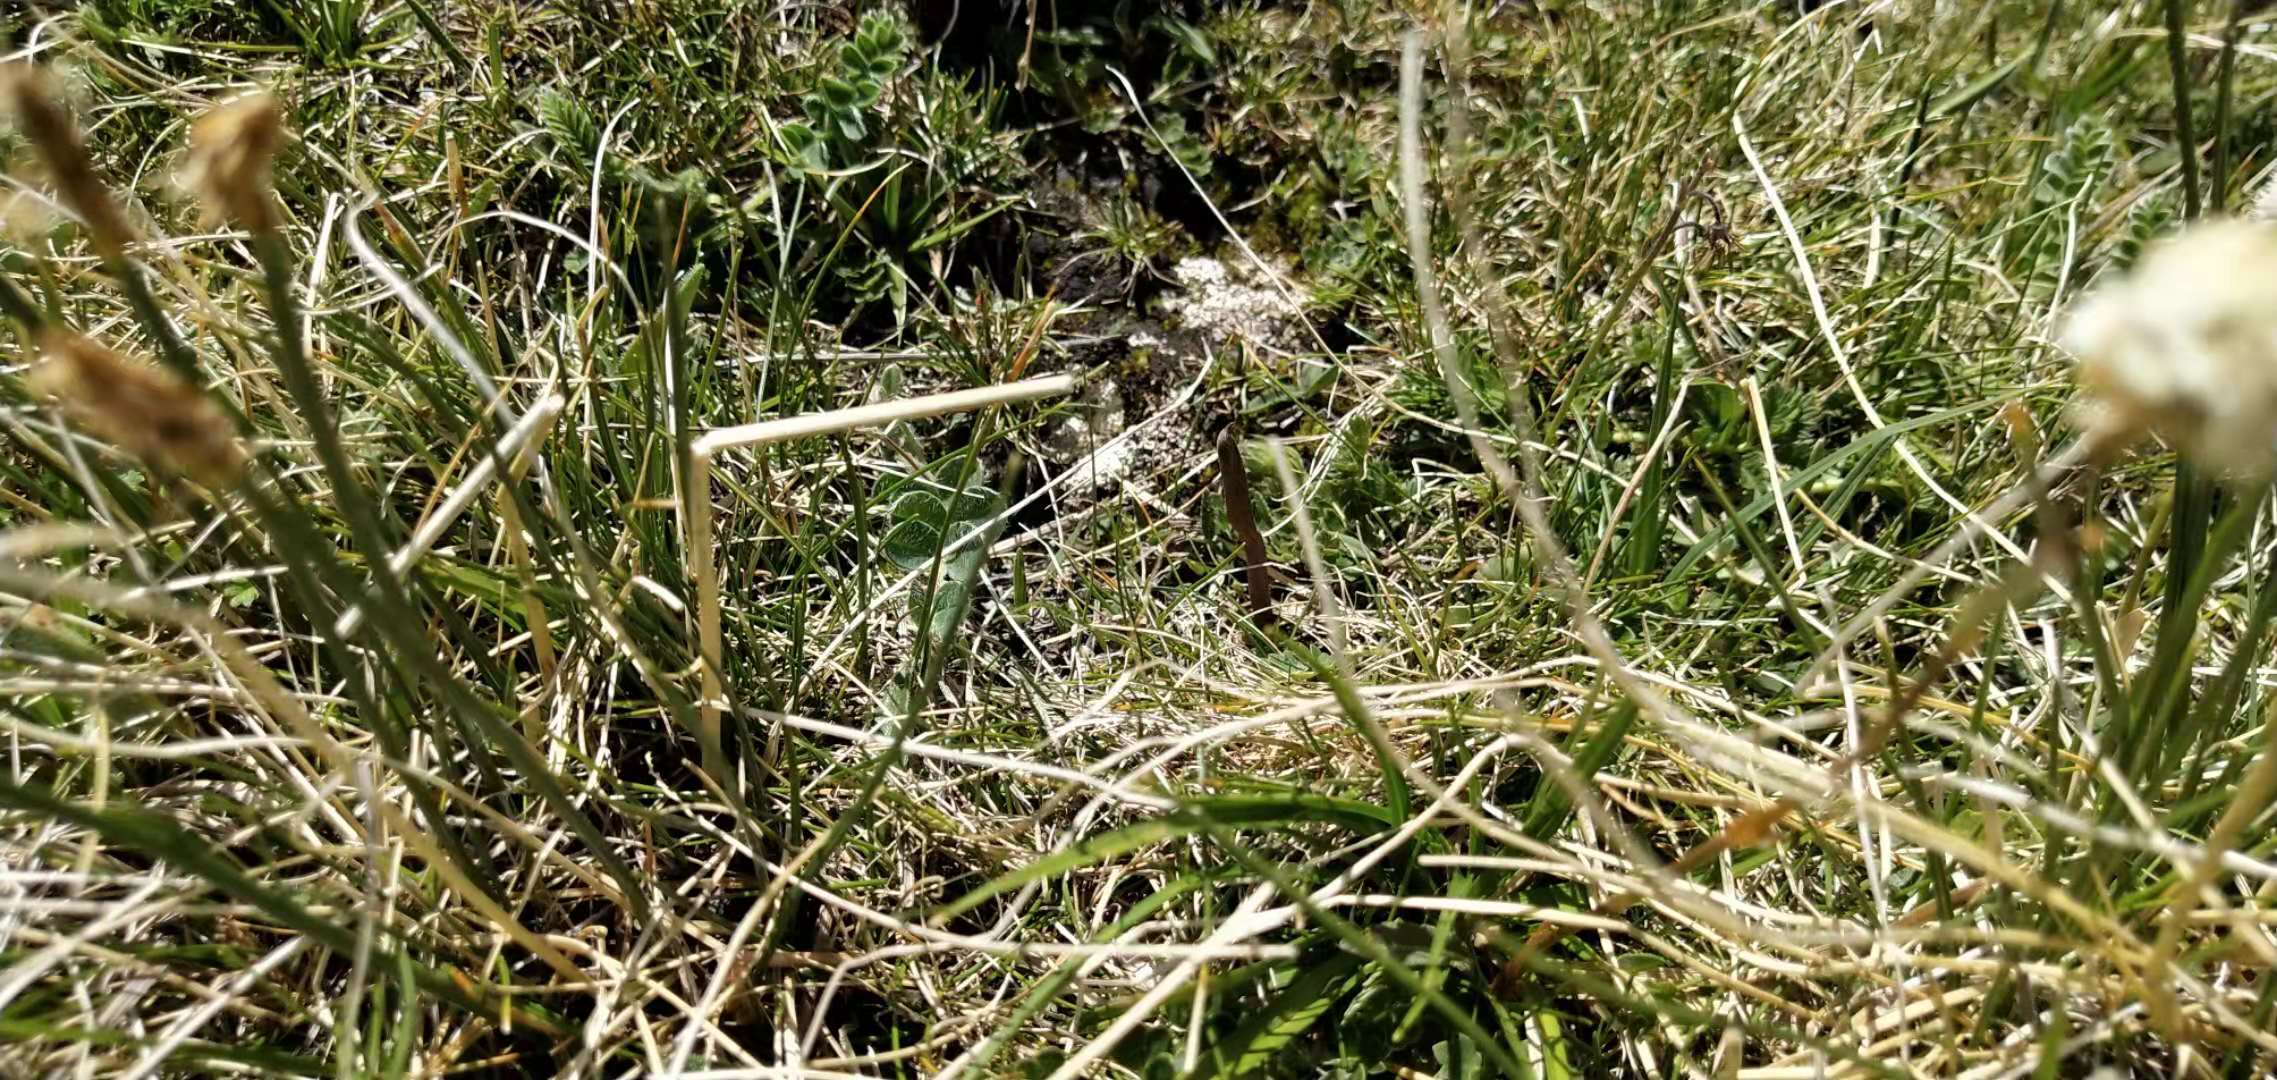cpf: (1211, 422, 1279, 633)
